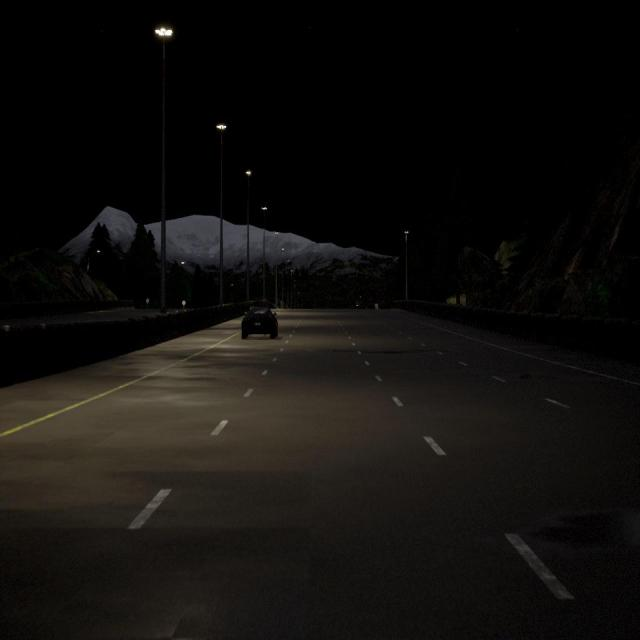Traffic_Signs: (182, 300, 186, 305), (146, 298, 149, 303)
Vehicle: (241, 306, 279, 338)
